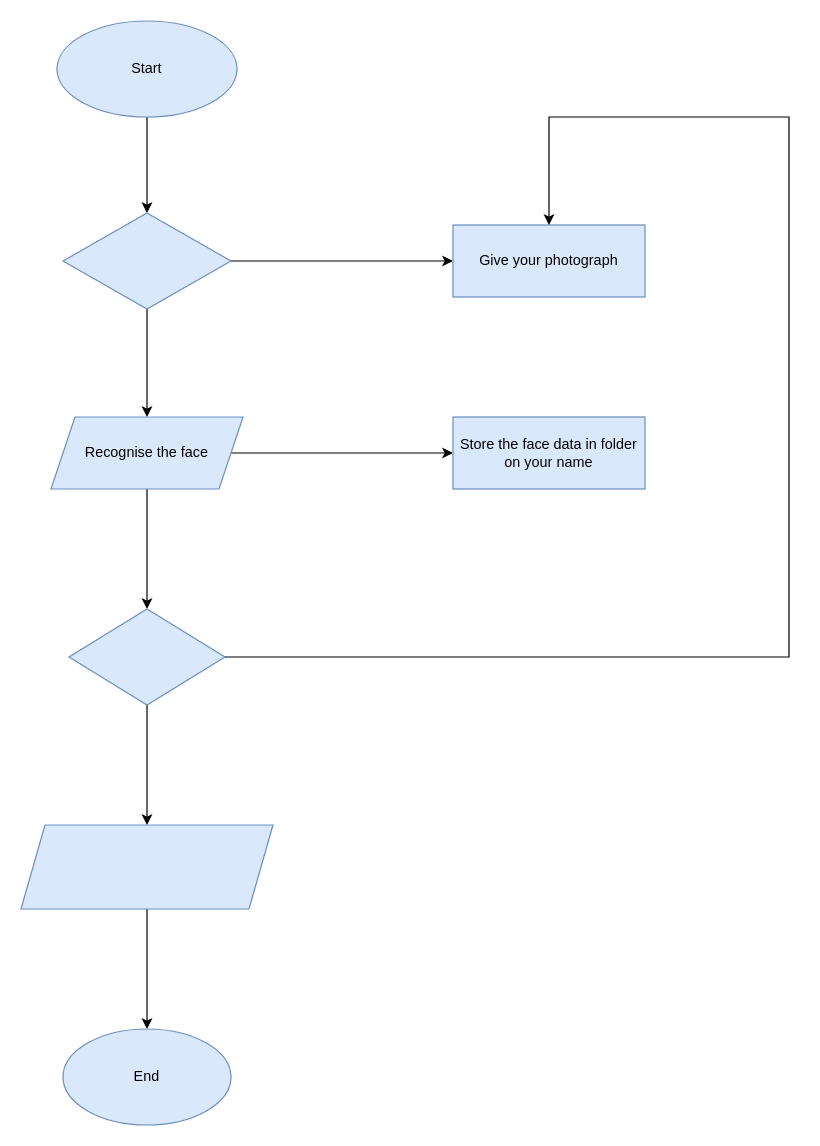
This 820x1146 diagram has some shape labels left out. Each missing label, with the centre of its shape:
"Face recognised" goes at [146,656].
"New User" goes at [146,260].
"Stored in csv file with Registration number & data, time of entry" goes at [146,866].
